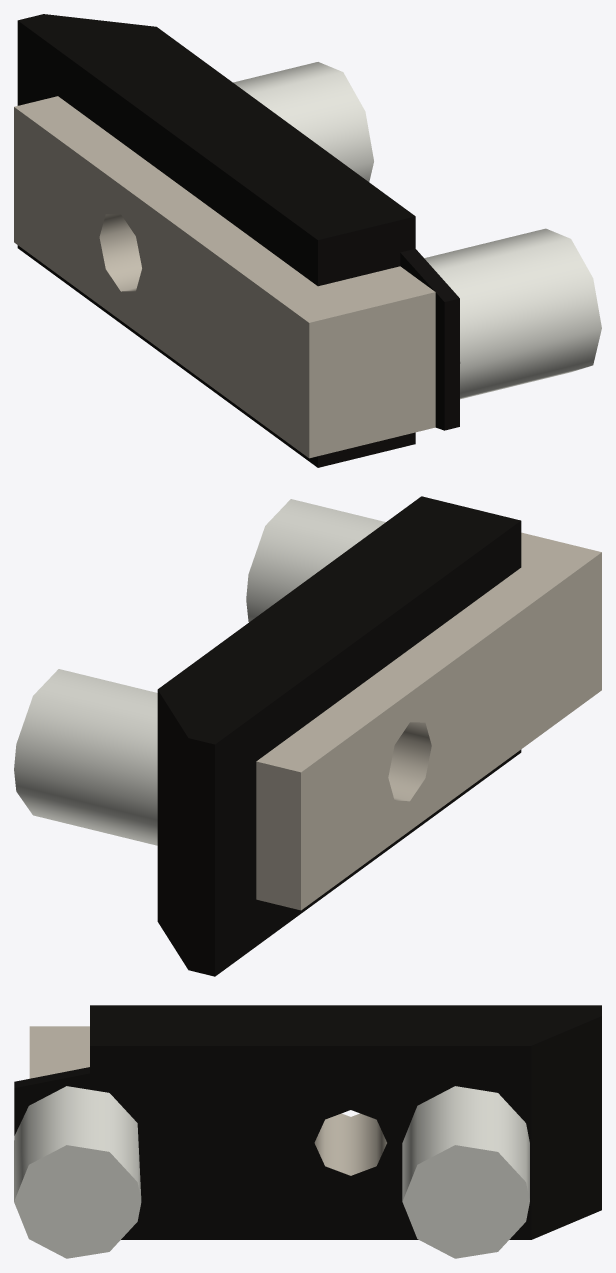
3 renders of one model, top to bottom at view 1: azimuth 30°, elevation 25°; view 2: azimuth 150°, elevation 25°; view 3: azimuth 270°, elevation 25°, orthographic. The views are drawn at different scales.
Parts seen in each view (by area): view 1: bau0027289695; view 2: bau0027289695; view 3: bau0027289695.
Part boxes in pixels (x1,y1,x2,y2): bau0027289695: (14, 14, 601, 467); bau0027289695: (14, 496, 601, 976); bau0027289695: (14, 1005, 601, 1258).
Size of the model in its own units: 23 by 17.65 by 48.44.
